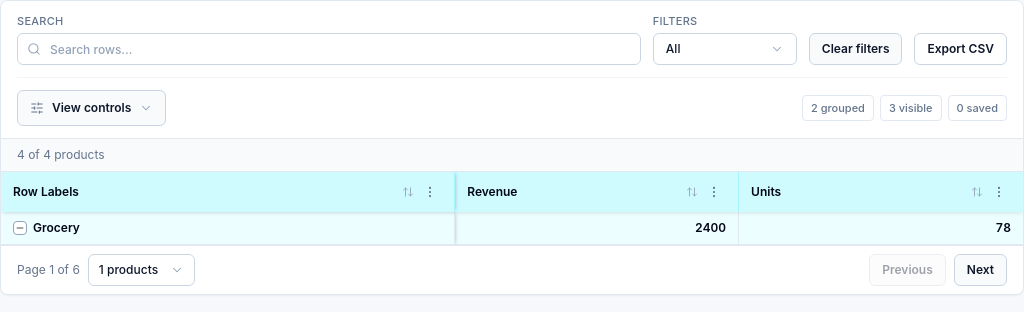
DataGrid pivot layout mode › can paginate pivot by visible rows
Expected: the text "Grocery" is shown, [33, 220, 80, 236]
Expected: the text "Nut Butter" is not shown
Click the button "Next" at point(980, 270), box [954, 254, 1007, 286]
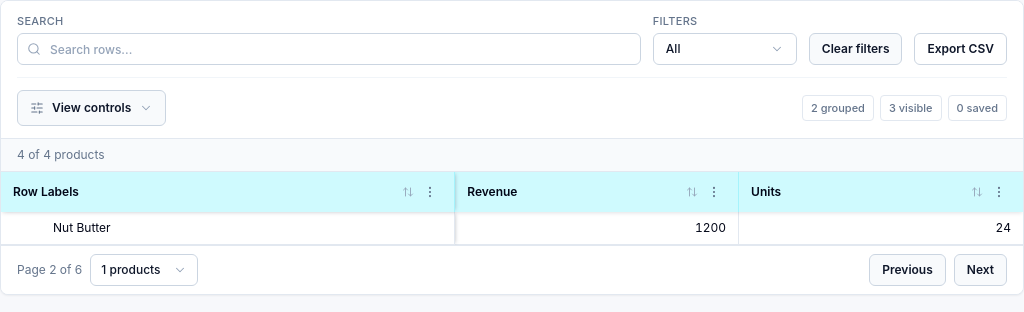
Now the text "Grocery" is gone
Now the text "Nut Butter" is shown, box [53, 220, 111, 236]
